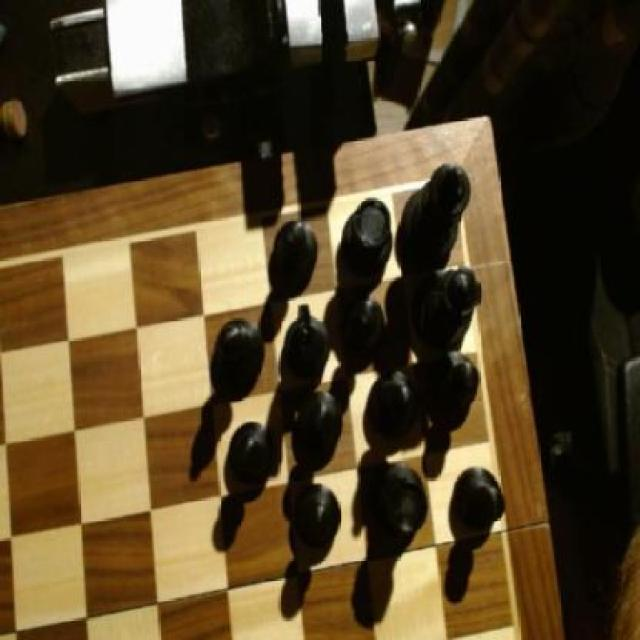bishop: (210, 317, 268, 389), (374, 371, 420, 447)
black-bishop: (405, 166, 472, 264)
black-king: (284, 303, 334, 382)
black-knight: (431, 346, 486, 432), (228, 420, 280, 503), (338, 296, 390, 372), (458, 468, 508, 540), (274, 212, 321, 288), (300, 486, 345, 562), (297, 394, 343, 461)
black-pawn: (417, 264, 484, 348)
black-queen: (374, 463, 435, 550), (343, 197, 398, 273)
